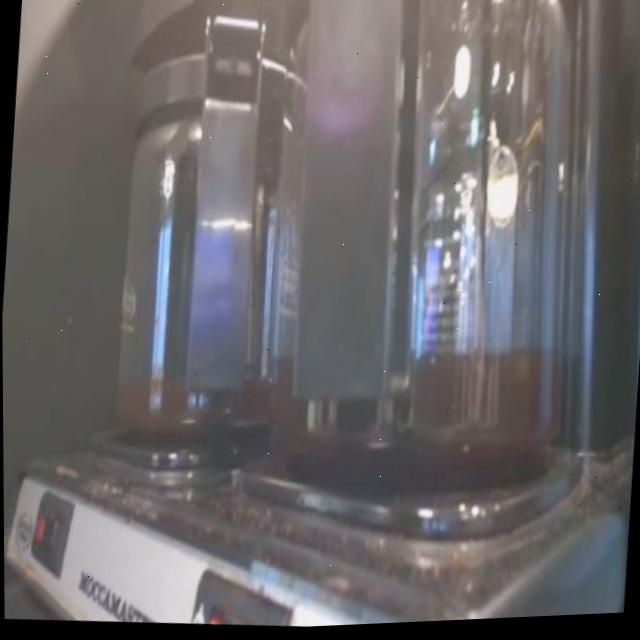coffee: (245, 0, 587, 519), (95, 38, 321, 472)
